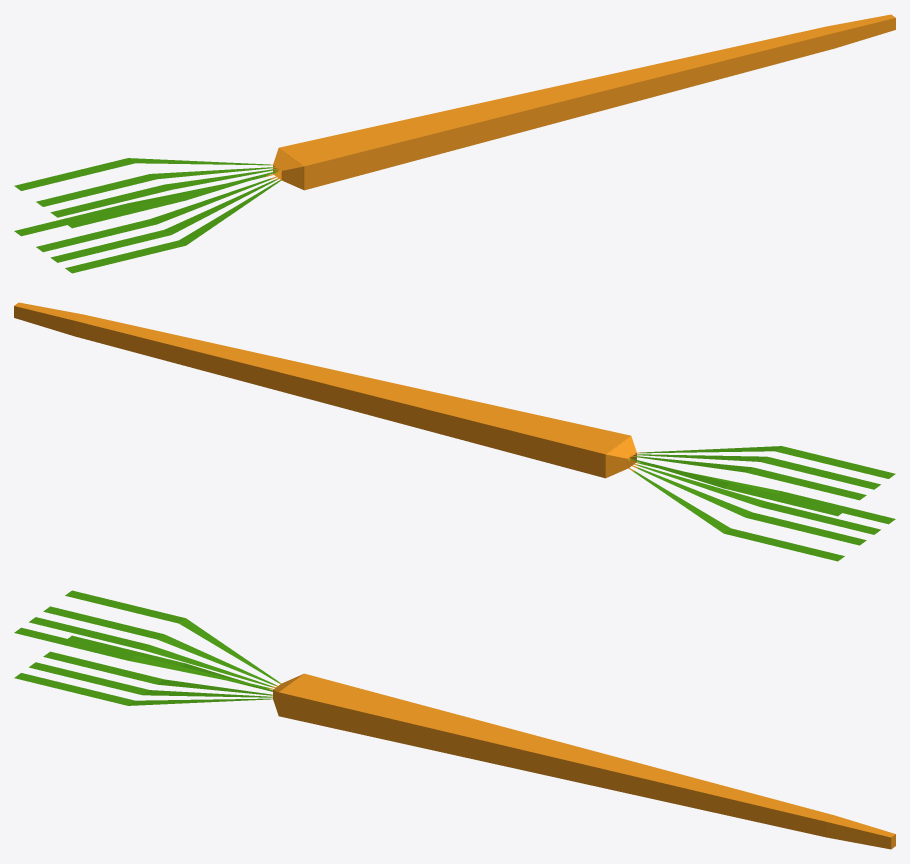
File: carrot.glb
3 renders of one model, top to bottom at view 1: azimuth 30°, elevation 25°; view 2: azimuth 150°, elevation 25°; view 3: azimuth 330°, elevation 25°, orthographic.
Visible parts, largest first — view 1: Cube; view 2: Cube; view 3: Cube.
Boxes of the visible parts, bbox=[...] form: Cube: bbox=[14, 14, 895, 273]; Cube: bbox=[14, 302, 895, 561]; Cube: bbox=[14, 590, 895, 849].
Size of the model in its own units: 114 by 5.77 by 13.43.
Materials: 1 (1 with a texture image).
